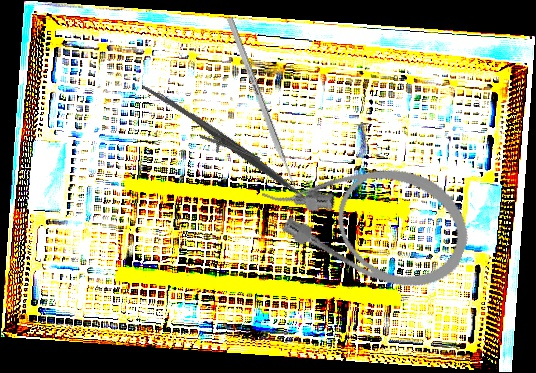Cannula: (247, 125, 484, 306)
Needle Holder: (129, 84, 269, 171)
Pusher: (226, 17, 301, 198)
Spatula Surgical: (150, 80, 331, 221)
